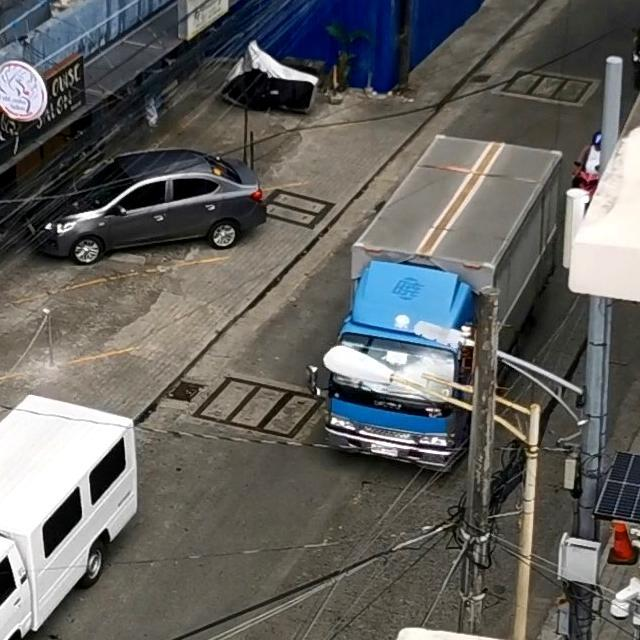Truck: (336, 140, 558, 465)
